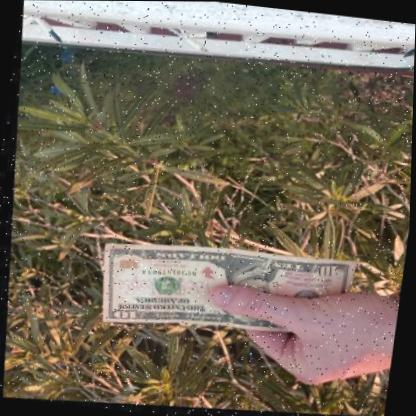dollar_front: (96, 242, 352, 335)
